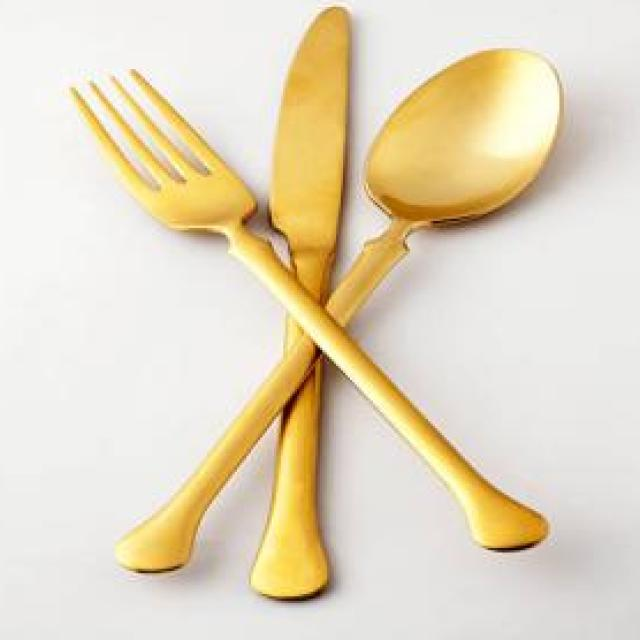knife: (235, 0, 360, 596)
